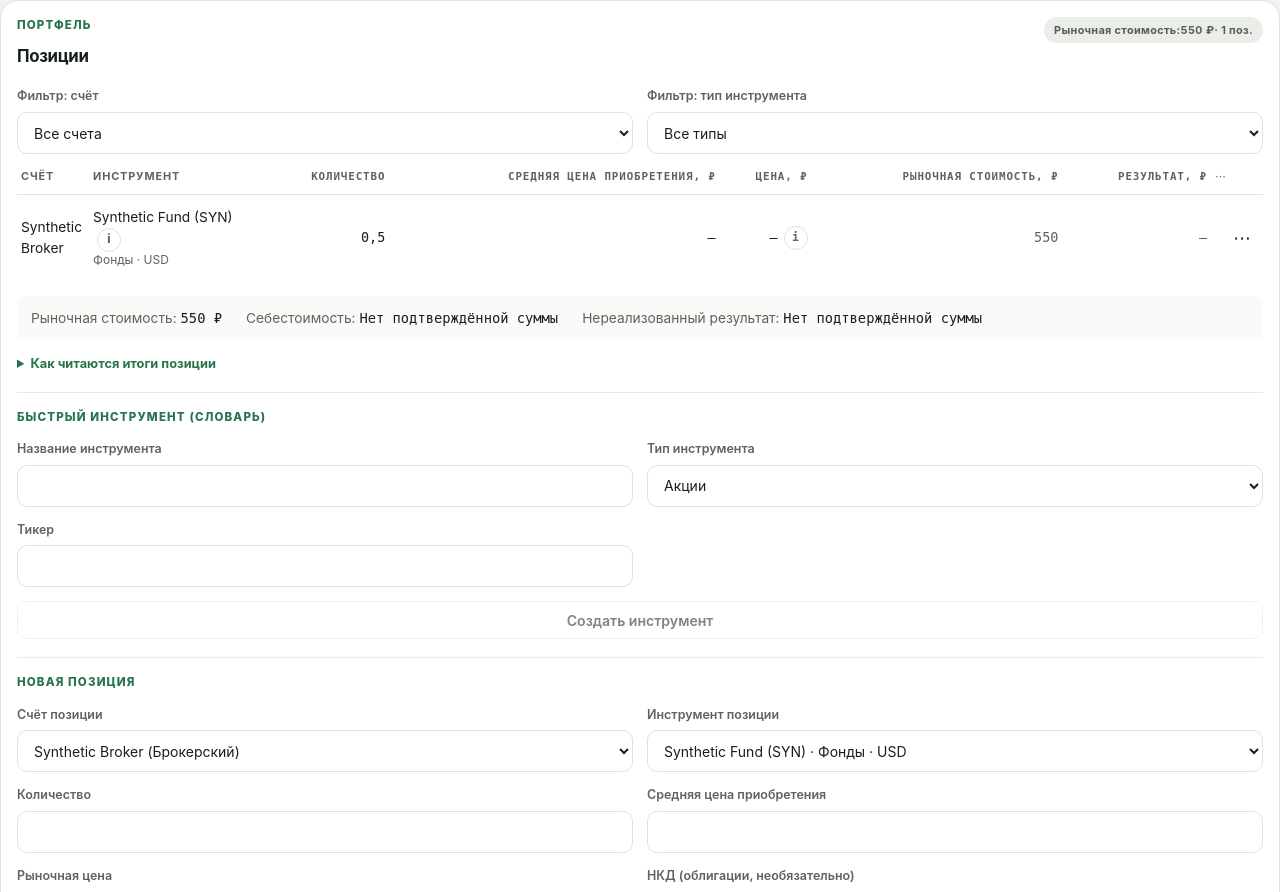
Test: native month positions leaf › renders exact native total and unknown cost/P&L without editable source actions
The width and height of the screenshot is (1280, 892).
Expected: the text "Synthetic Fund (SYN)" is shown, [93,210,233,226]
Expected: the table shows "550", [1034,230,1058,244]
What coordinates should you click on to do the following:
click the button named "Действия для позиции"
I would click on:
 (1242, 238)
Its box is [1225,222,1259,254].
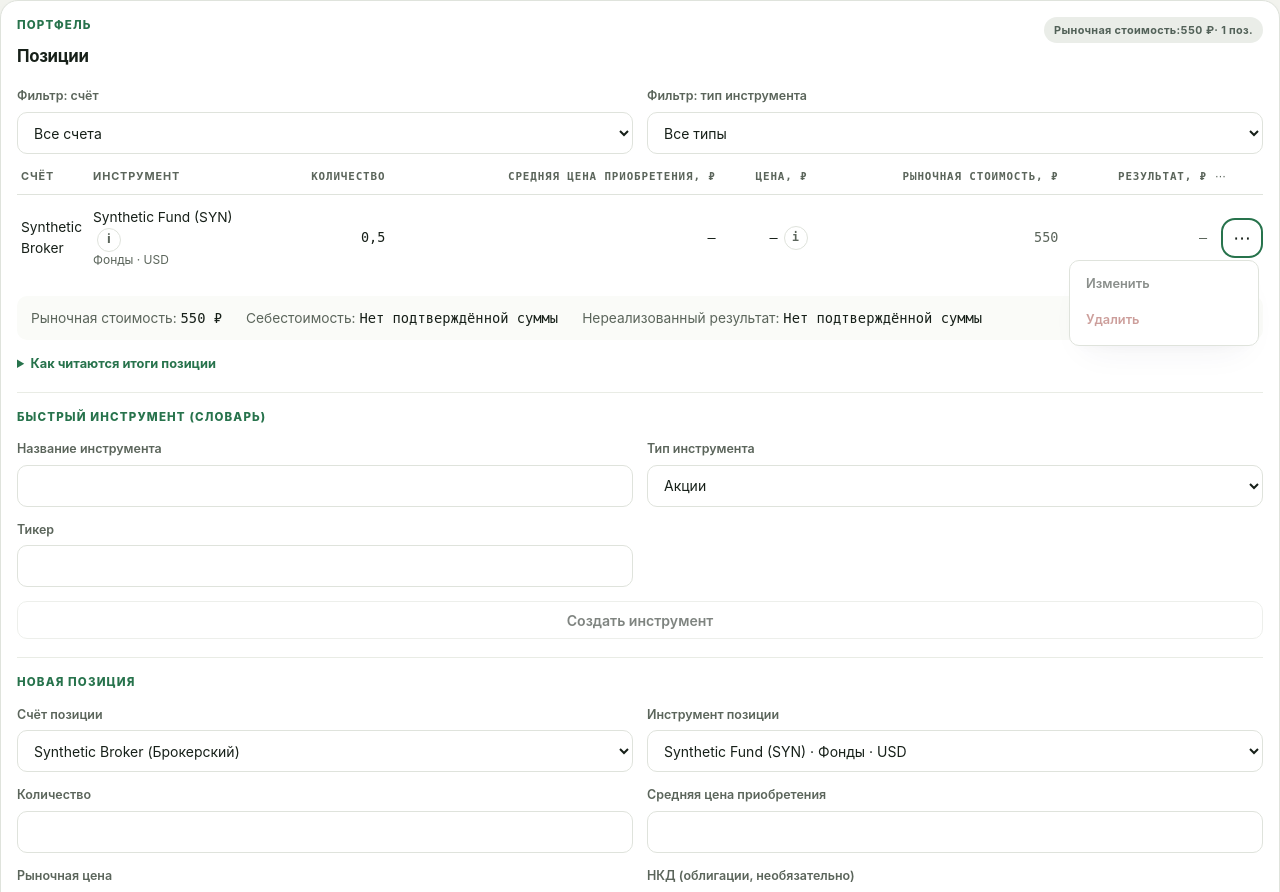
Expected: the menu item "Изменить" is disabled, [1076,267,1252,303]
Expected: the menu item "Удалить" is disabled, [1076,303,1252,339]
